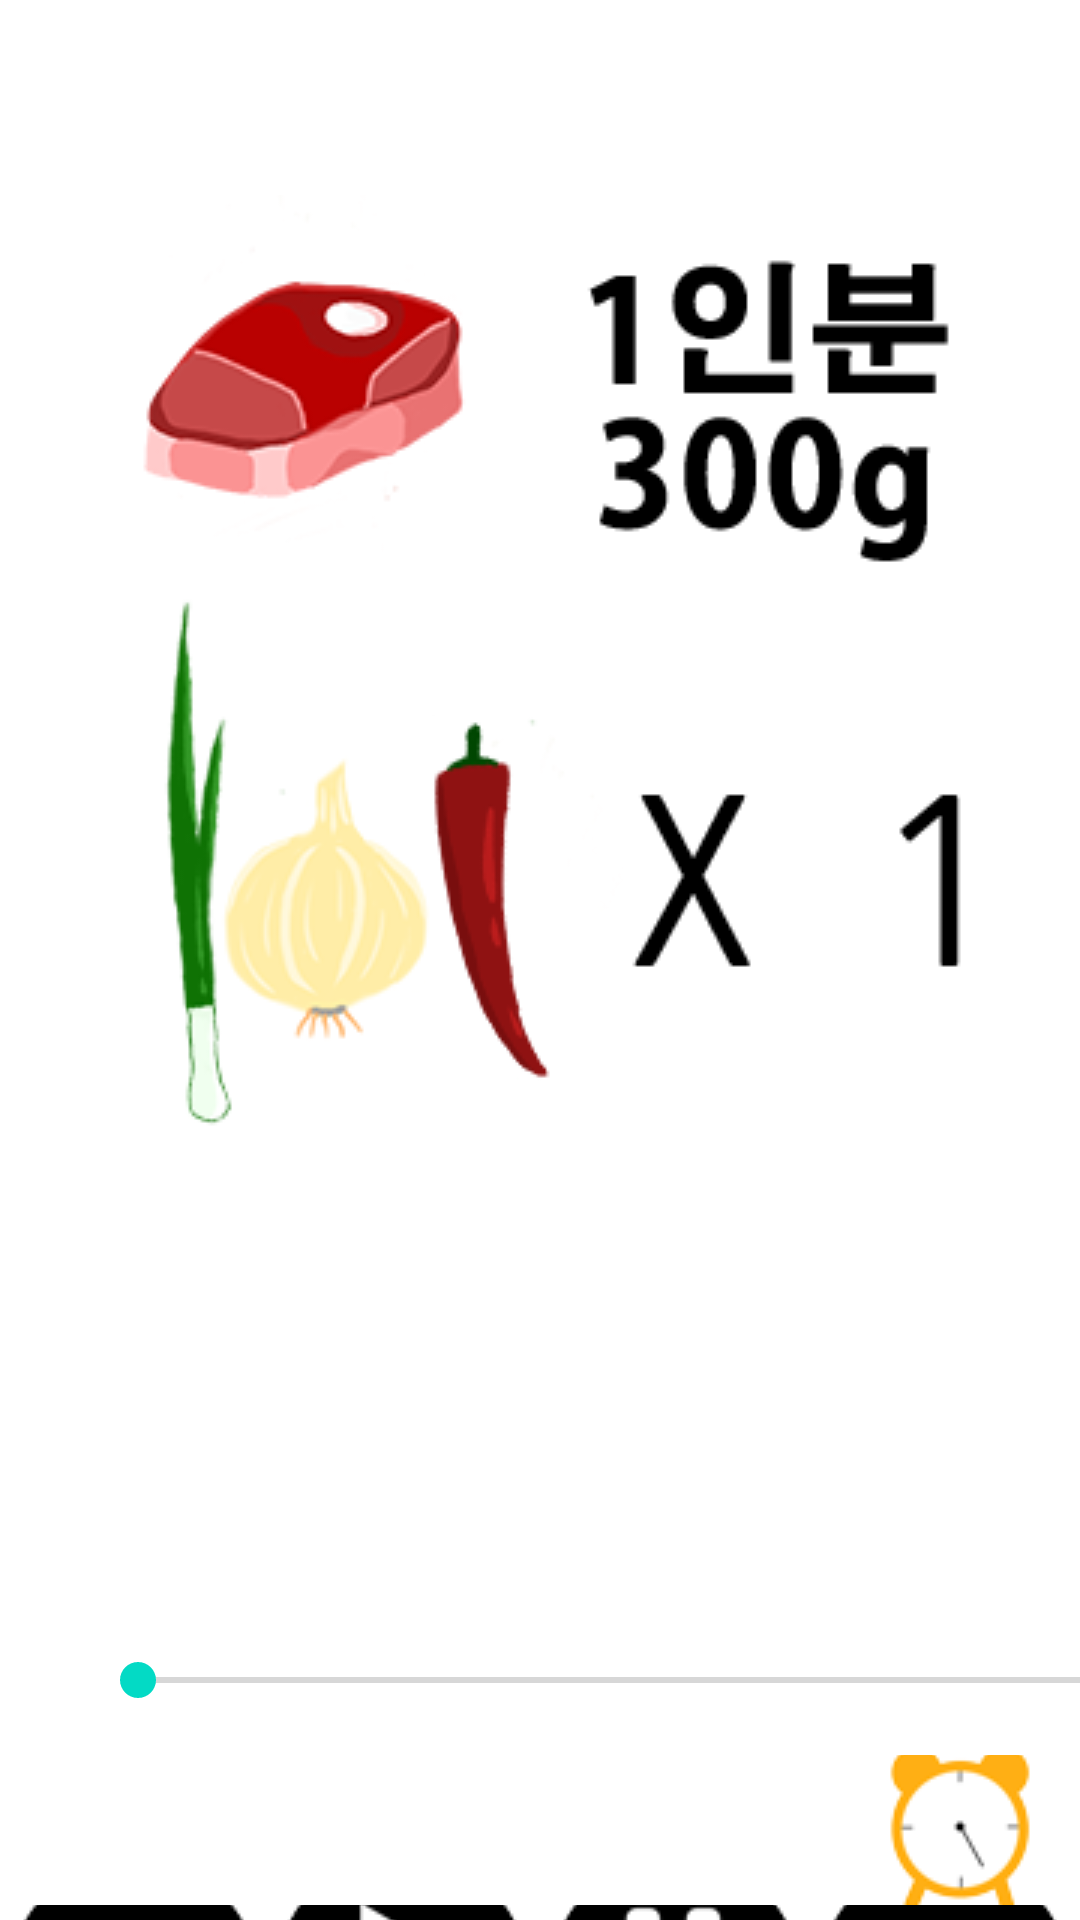

Where icons sit on this 1080x1920 app screen, as (x1=x1, y1=y1, x2=x2, y2=y2):
timerimg: (x1=890, y1=1755, x2=1030, y2=1905)
